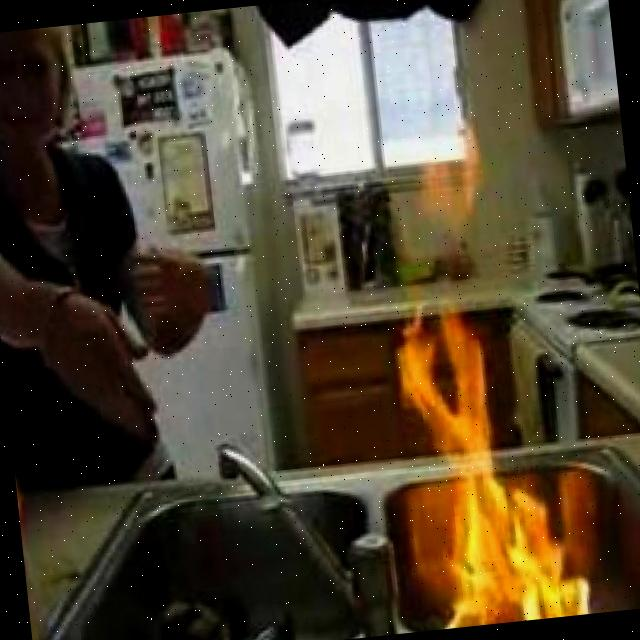fire: (393, 287, 586, 630), (390, 106, 498, 241)
